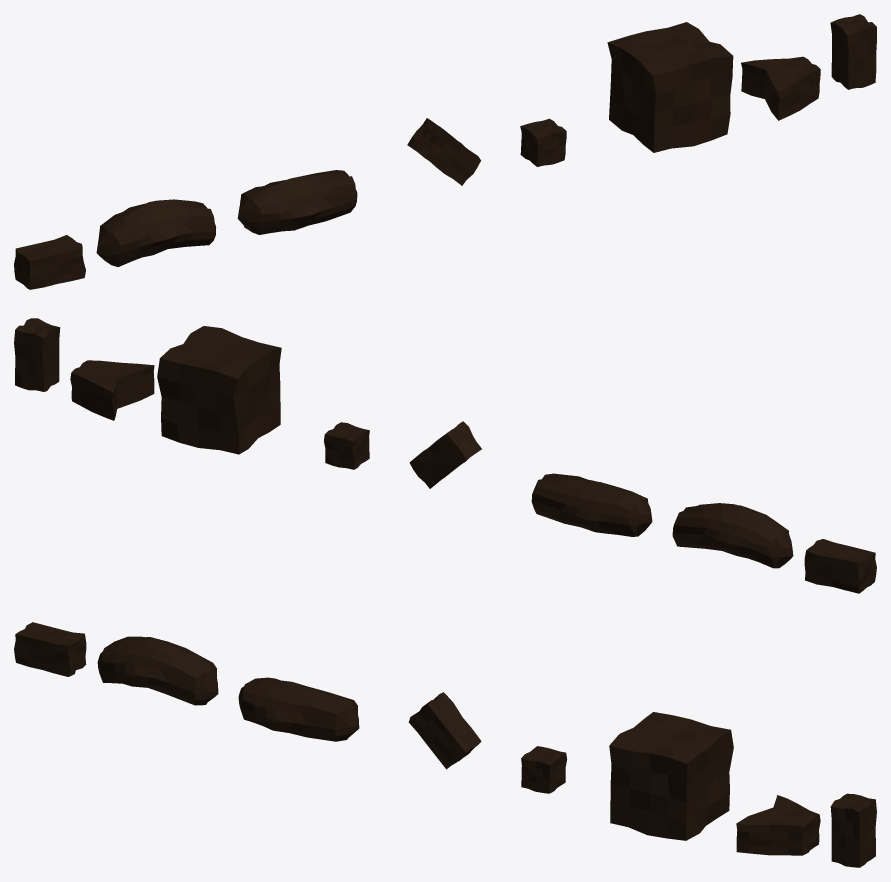
Rendered from RocksCavern.glb.
3 renders of one model, top to bottom at view 1: azimuth 30°, elevation 25°; view 2: azimuth 150°, elevation 25°; view 3: azimuth 330°, elevation 25°, orthographic.
Visible parts, largest first — view 1: Cube.004-col, Cube.003-col, Cube.002-col, Cube.005-col, Cube.007-col, Cube.006-col, Cube -col, Cube.001-col; view 2: Cube.004-col, Cube.002-col, Cube.003-col, Cube.005-col, Cube.006-col, Cube.007-col, Cube -col, Cube.001-col; view 3: Cube.004-col, Cube.003-col, Cube.002-col, Cube.005-col, Cube.007-col, Cube.006-col, Cube -col, Cube.001-col.
Part boxes in pixels (box(x1,y1,x2,y2)): Cube.004-col: box(607, 22, 733, 152); Cube.003-col: box(96, 199, 216, 266); Cube.002-col: box(237, 170, 357, 234); Cube.005-col: box(741, 56, 820, 120); Cube.007-col: box(830, 14, 876, 89); Cube.006-col: box(14, 235, 85, 289); Cube -col: box(407, 118, 480, 185); Cube.001-col: box(520, 118, 566, 166); Cube.004-col: box(157, 326, 281, 454); Cube.002-col: box(531, 473, 652, 536); Cube.003-col: box(672, 503, 793, 568); Cube.005-col: box(70, 360, 154, 420); Cube.006-col: box(804, 539, 876, 593); Cube.007-col: box(14, 318, 60, 391); Cube -col: box(409, 421, 481, 488); Cube.001-col: box(324, 422, 369, 469); Cube.004-col: box(609, 712, 733, 840); Cube.003-col: box(97, 636, 218, 705); Cube.002-col: box(238, 677, 359, 741); Cube.005-col: box(736, 795, 820, 855); Cube.007-col: box(830, 793, 876, 867); Cube.006-col: box(14, 622, 86, 676); Cube -col: box(408, 692, 481, 769); Cube.001-col: box(521, 746, 567, 793).
Bounding box in the file's own units: 60.09 × 5.66 × 5.82.
Materials: 1 (1 with a texture image).
